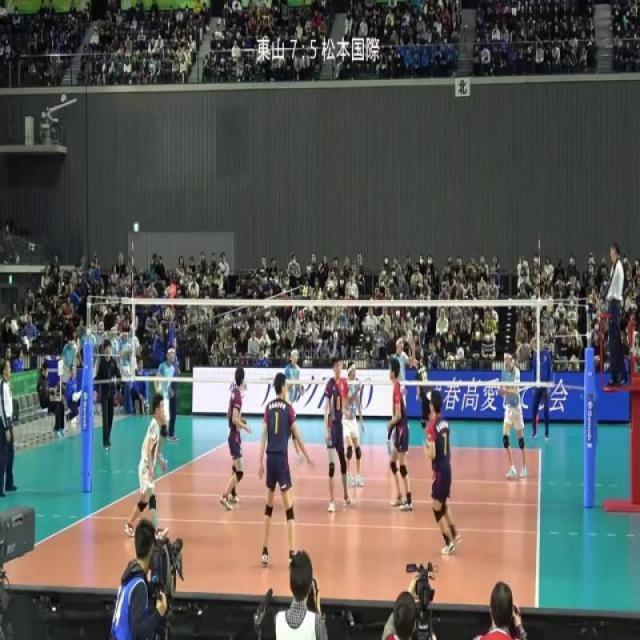volleyball: (457, 346, 465, 359)
